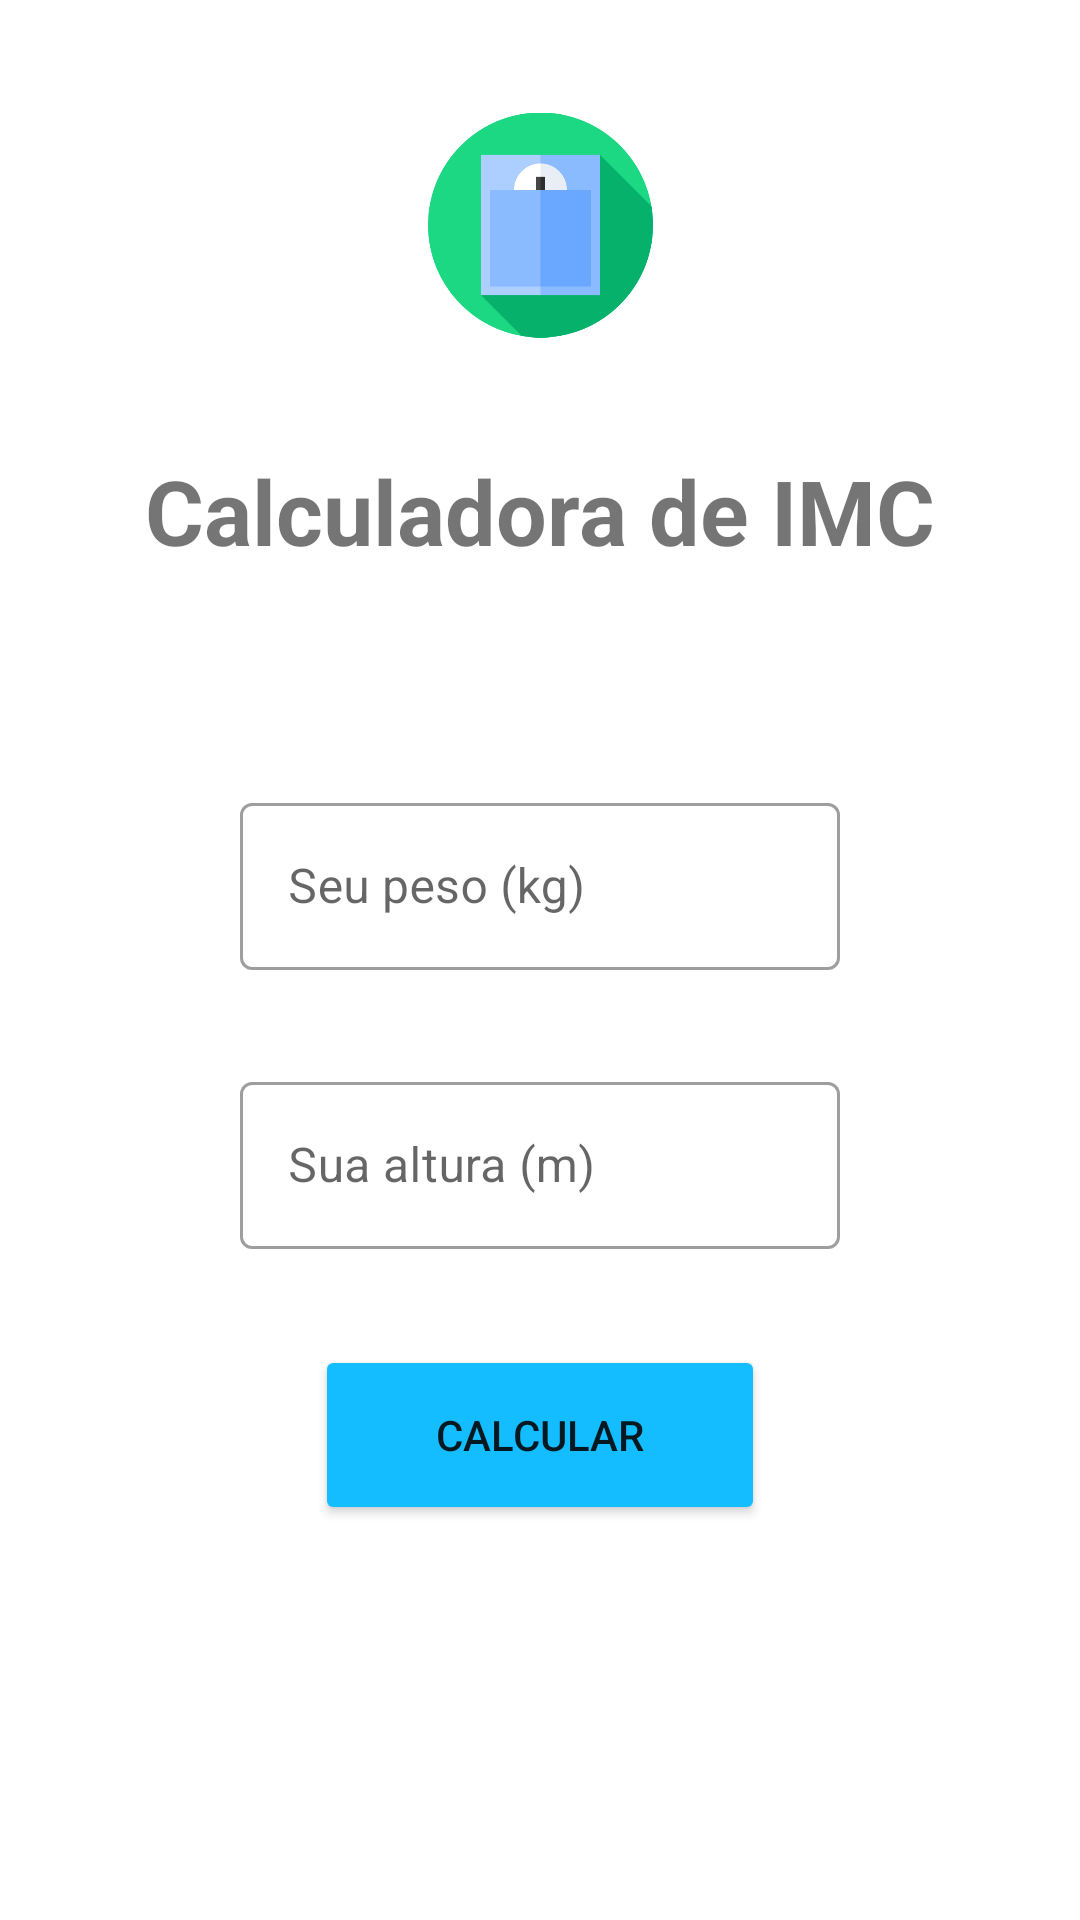

Where to tap for icons on this 1080*1920 app screen, as (x,y):
weighing machine: (540,225)
